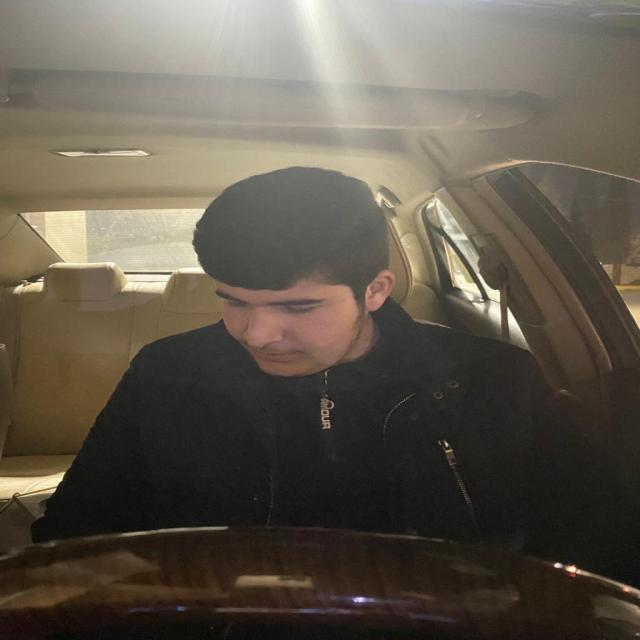drowsy: (178, 169, 408, 381)
